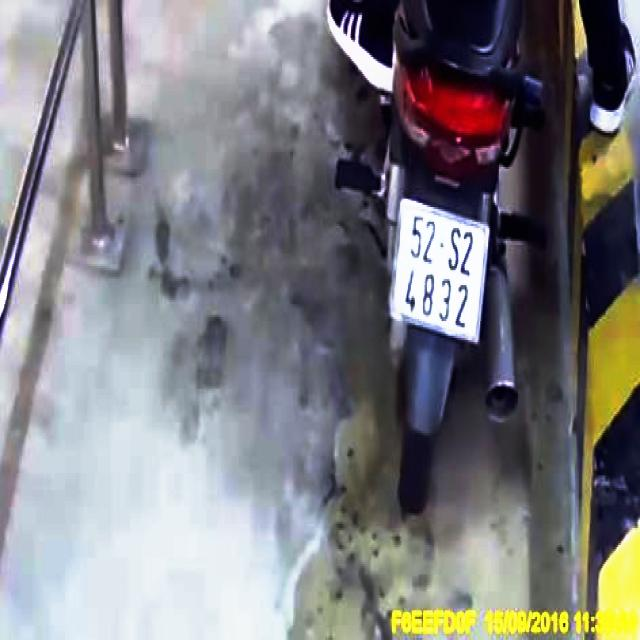license_plate: (392, 202, 489, 342)
